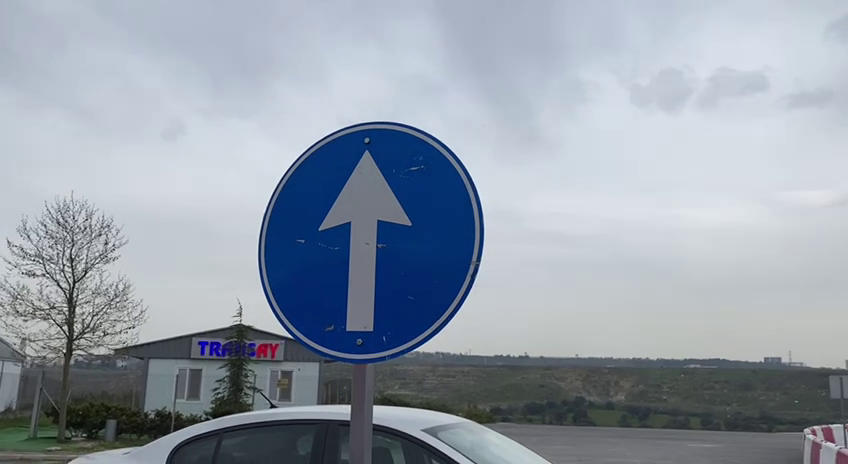forward: (246, 112, 496, 371)
